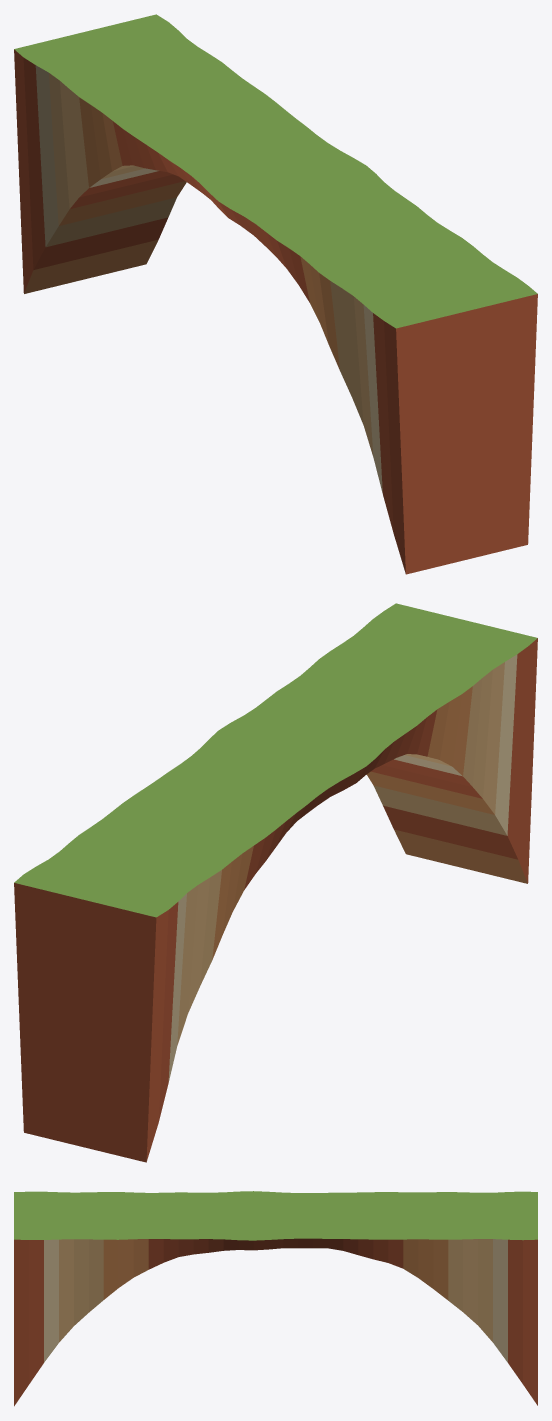
The model's file is ponte_d2.glb.
3 views of the same model, one above another, from view 1: azimuth 30°, elevation 25°; view 2: azimuth 150°, elevation 25°; view 3: azimuth 270°, elevation 25° (orthographic). The views are drawn at different scales.
Parts seen in each view (by area): view 1: ponte_d2; view 2: ponte_d2; view 3: ponte_d2.
Part boxes in pixels (<box>): ponte_d2: <box>14,14,537,574</box>; ponte_d2: <box>14,603,537,1162</box>; ponte_d2: <box>14,1191,537,1406</box>.
Bounding box in the file's own units: 31.4 × 50.45 × 141.
